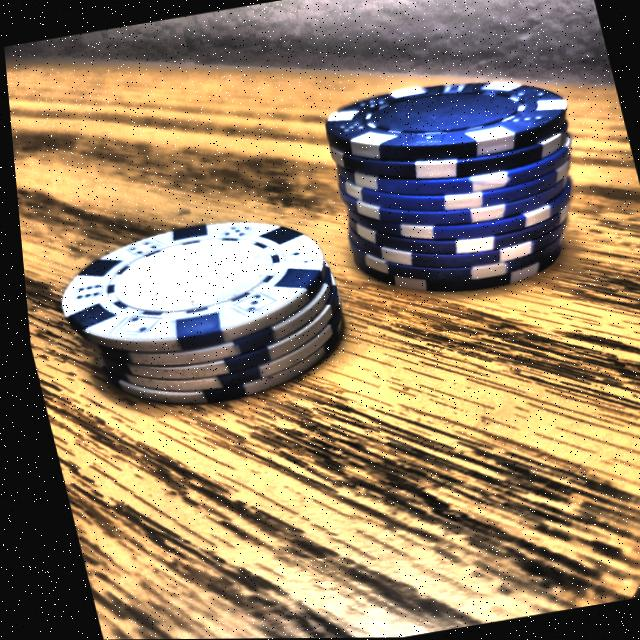Chip: (286, 43, 620, 328), (21, 197, 375, 430)
